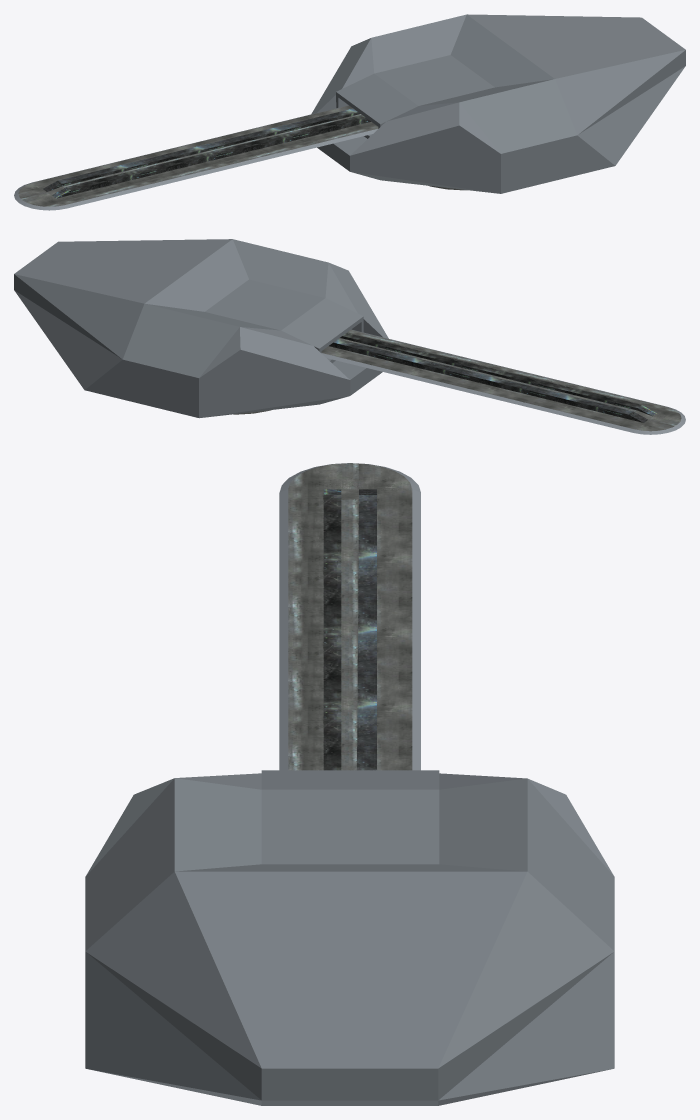
The model's file is 电锯【贴图版】.fbx.
The picture shows the model from 3 angles, top to bottom: view 1: azimuth 30°, elevation 25°; view 2: azimuth 150°, elevation 25°; view 3: azimuth 270°, elevation 25°; orthographic projection. The views are drawn at different scales.
Parts seen in each view (by area): view 1: Group2, Group1; view 2: Group2, Group1; view 3: Group2, Group1.
Part boxes in pixels (left/top/right/bottom): Group2: left=311, top=14, right=685, bottom=193; Group1: left=14, top=105, right=378, bottom=210; Group2: left=14, top=239, right=388, bottom=418; Group1: left=321, top=329, right=685, bottom=434; Group2: left=85, top=770, right=614, bottom=1105; Group1: left=279, top=463, right=420, bottom=770.
Bounding box in the file's own units: 8.44 × 1.3 × 3.
